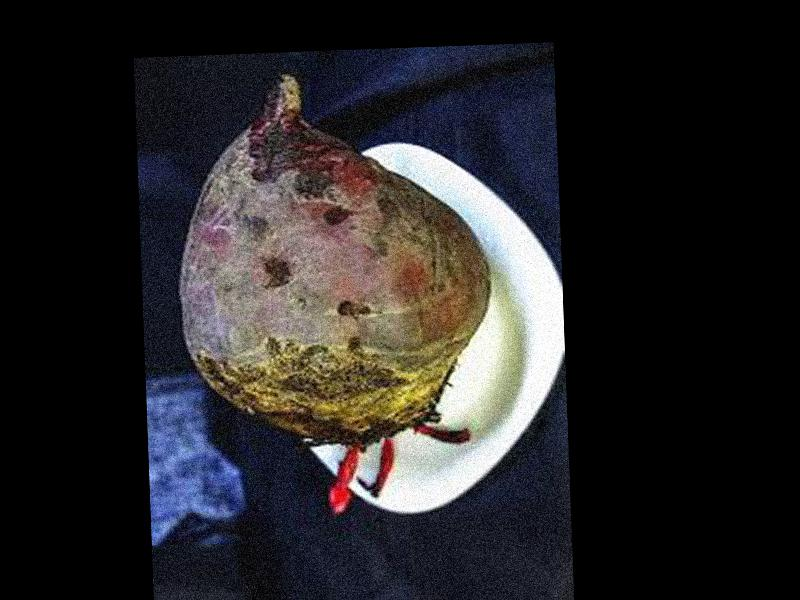Beet: (176, 69, 497, 518)
